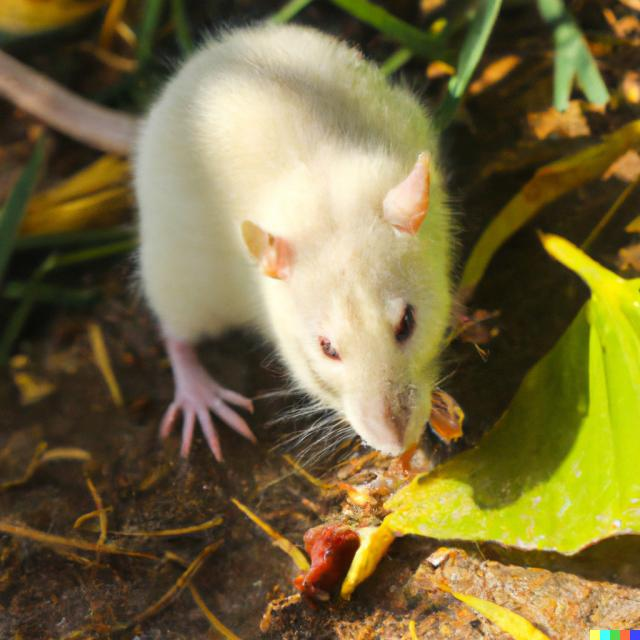rodent: (118, 9, 486, 470)
